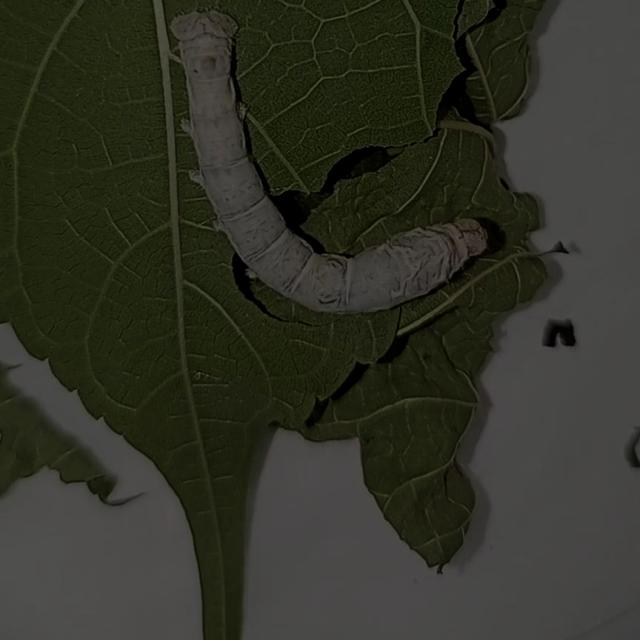Healthy: (163, 2, 508, 326)
